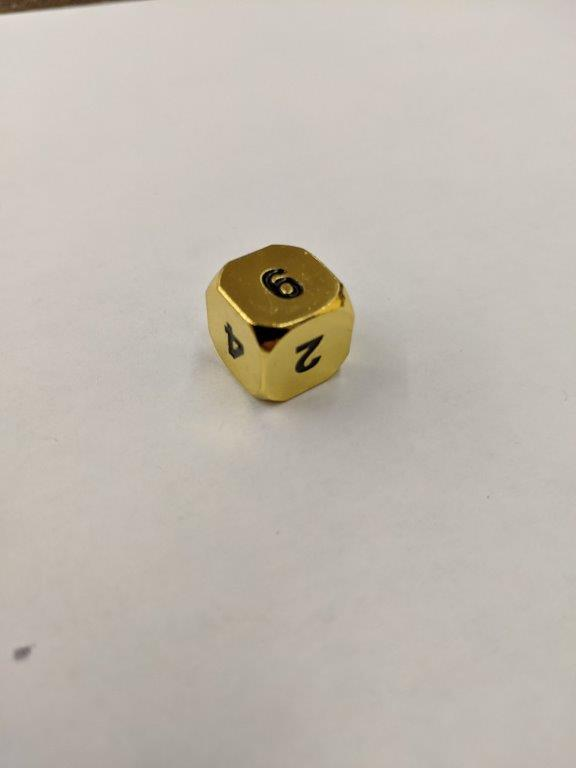d6-6: (206, 240, 355, 407)
